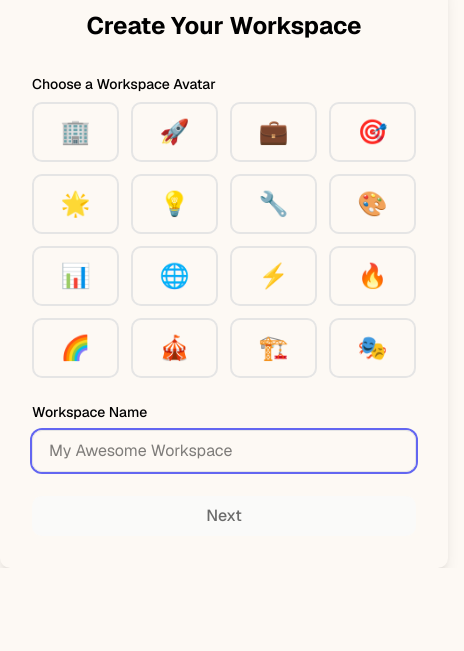
Test: CreateWorkspaceForm › handles RPC function custom error responses
The image size is (464, 651).
Type "Test Workspace" into the field with placeholder "My Awesome Workspace" at [224, 451], box x1=32 y1=430 x2=416 y2=472
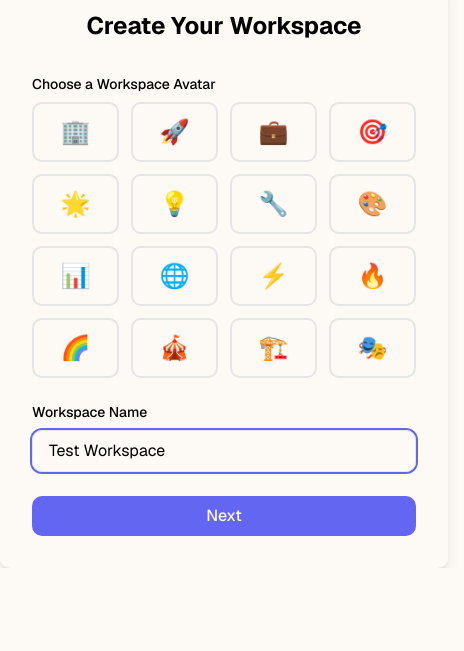
Click the button "Next" at [224, 516], box x1=32 y1=496 x2=416 y2=536
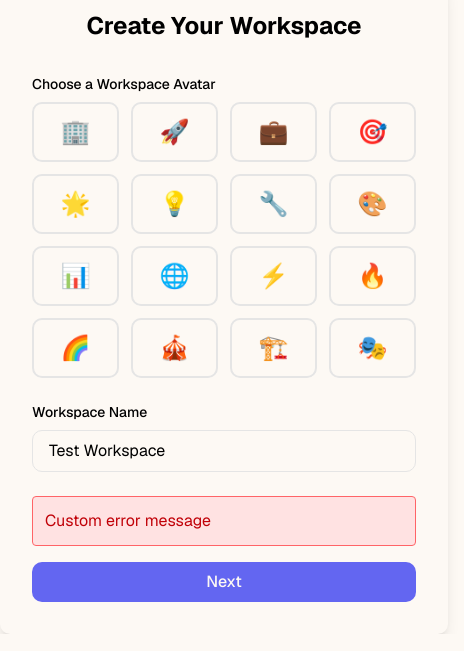
Expected: the text "Custom error message" is shown, x1=32 y1=496 x2=416 y2=546
